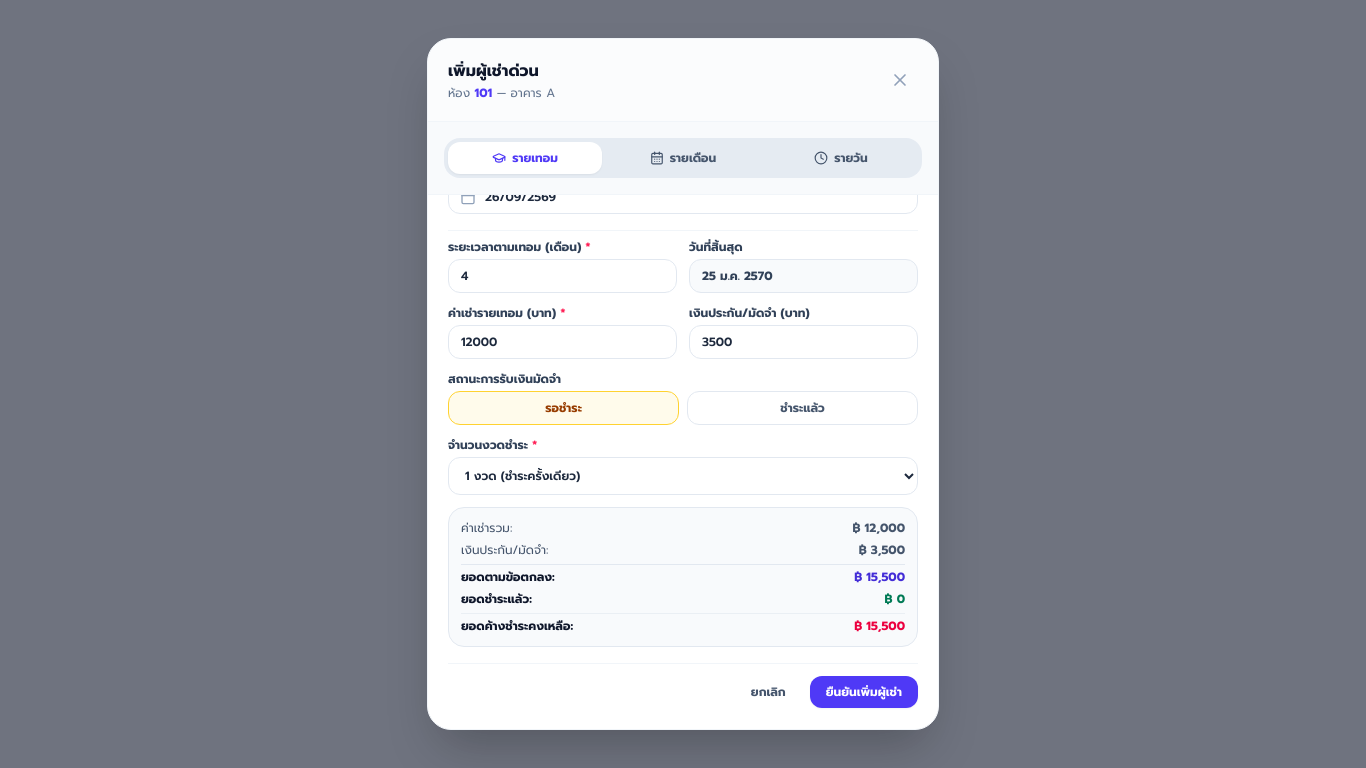
Test: Tenant Phase 3 Step 3C.5B.6E: Targeted PO UAT UI Corrections › 10. QuickAddTenantModal: Hide Installment Table When Installment = 1 (Issue 2) › hides installment table and schedule title when installment count = 1, and shows when > 1
The width and height of the screenshot is (1366, 768).
(page scrolled)
Check: the text "ตารางแบ่งชำระรายงวด" is not shown
Check: the text "ค่าเช่ารวม:" is shown, box [461,520,512,536]
Change installment to 2
Select "2 งวด" in the dropdown at (683, 476), box [448,457,918,495]
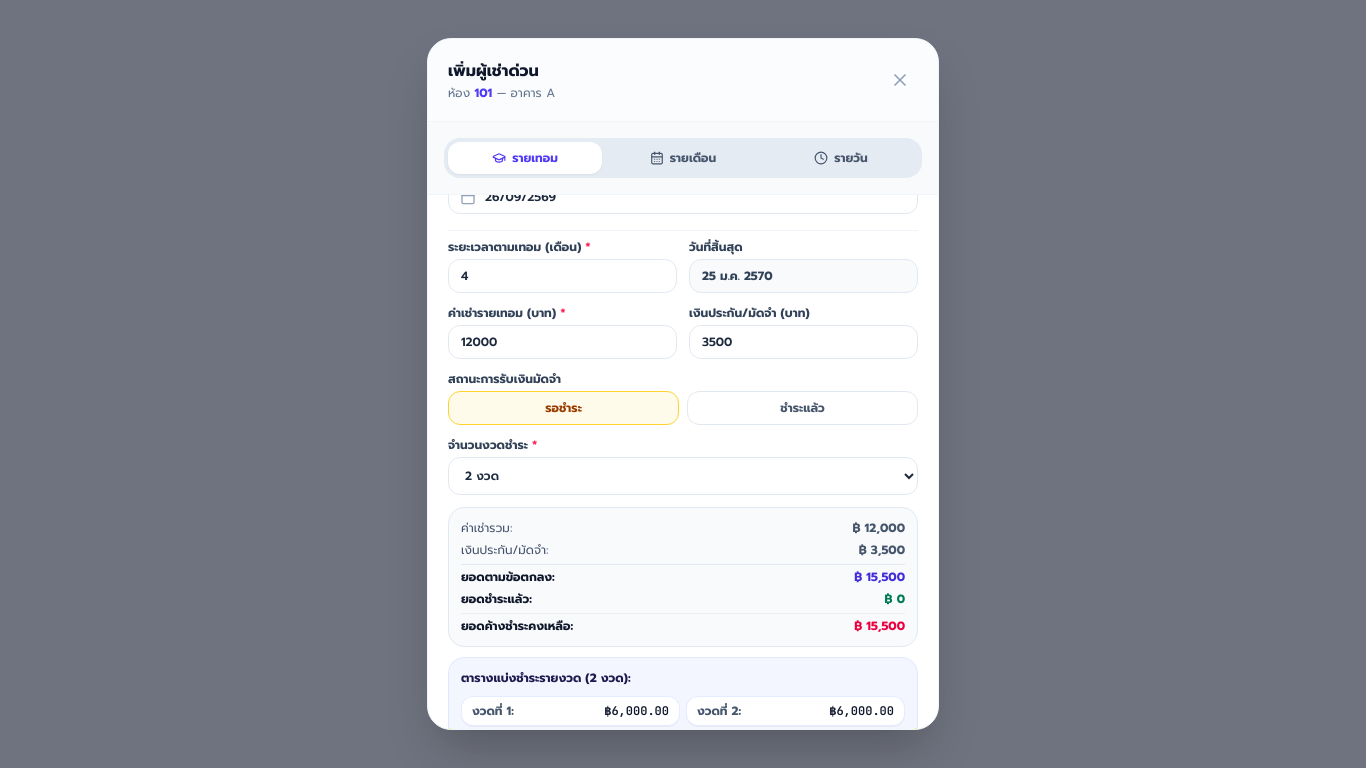
Check: the text "ตารางแบ่งชำระรายงวด (2 งวด):" is shown, box [461,670,631,686]
Check: the text "งวดที่ 1:" is shown, box [472,703,514,719]
Check: the text "งวดที่ 2:" is shown, box [697,703,741,719]
Change back to 1
Select "1 งวด (ชำระครั้งเดียว)" in the dropdown at (683, 476), box [448,457,918,495]
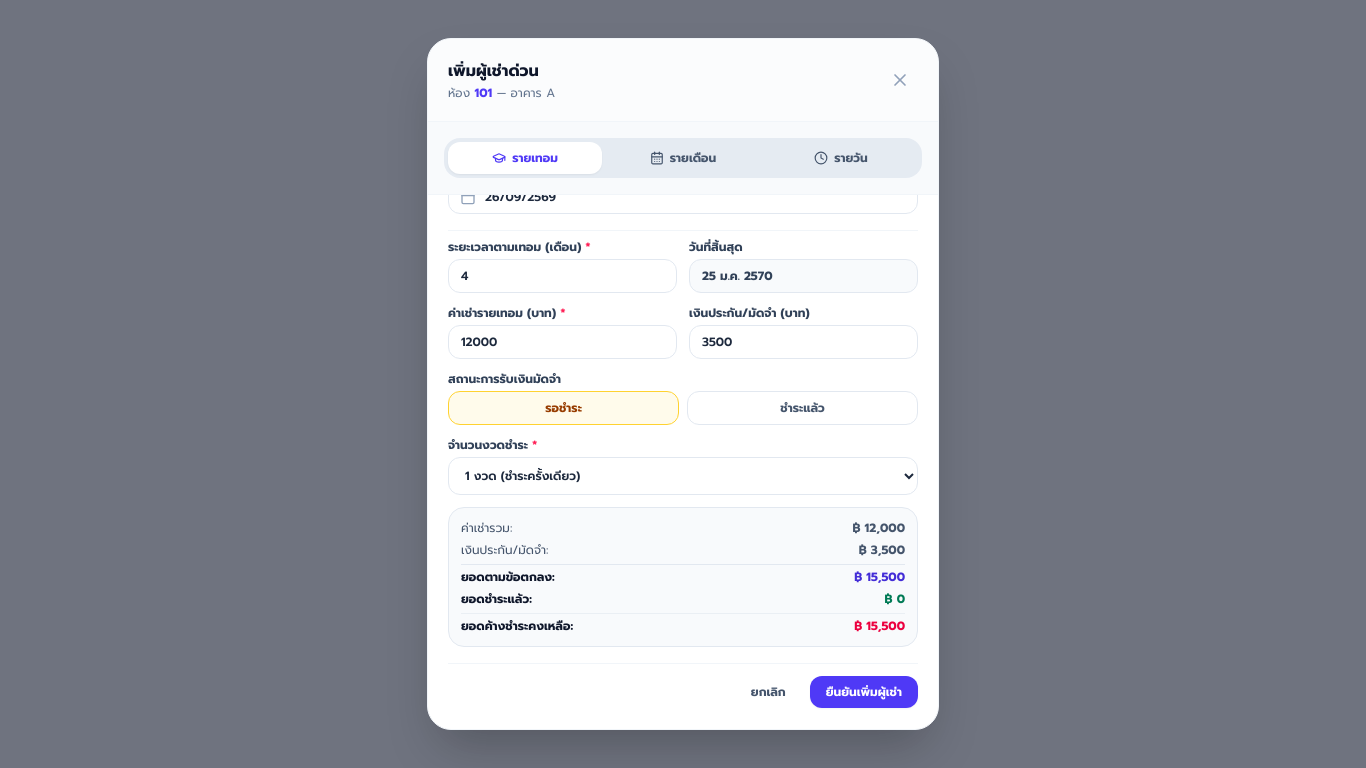
Check: the text "ตารางแบ่งชำระรายงวด" is gone
